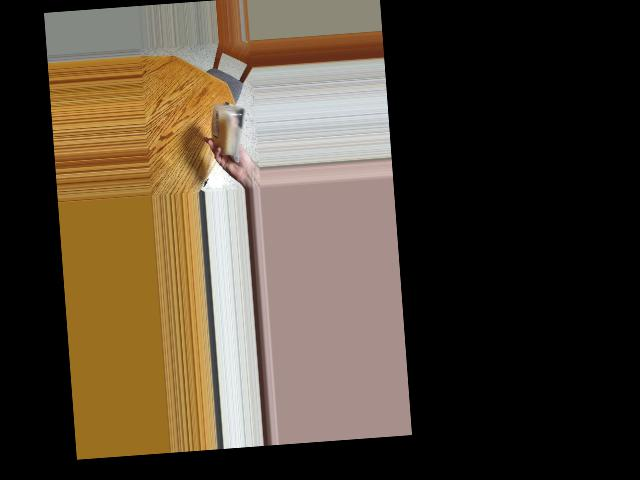cheese: (210, 105, 243, 154)
